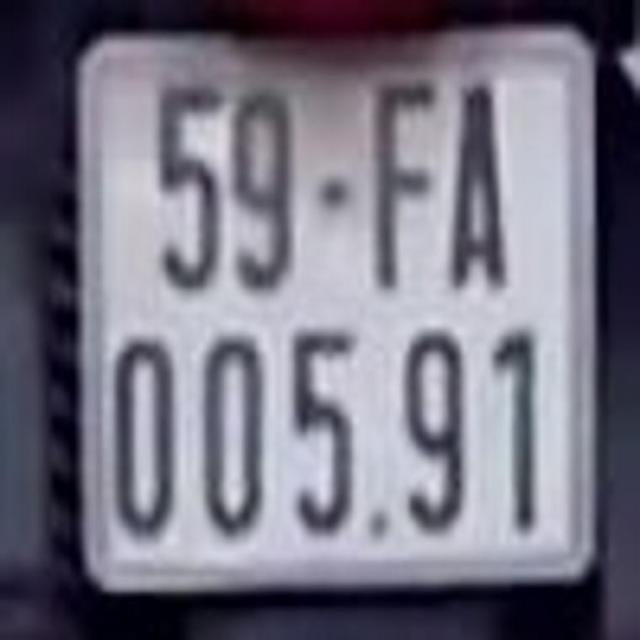0: (192, 330, 270, 537), (107, 332, 176, 538)
1: (489, 316, 551, 538)
5: (286, 320, 358, 542), (153, 80, 224, 292)
9: (394, 320, 468, 530), (232, 86, 298, 287)
A: (448, 77, 512, 300)
F: (366, 72, 438, 300)
